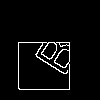B: (25, 25, 82, 78)
